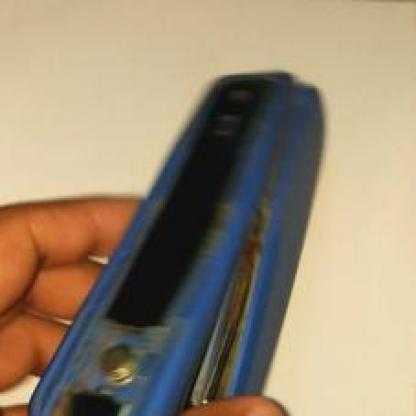stapler: (82, 68, 356, 414)
